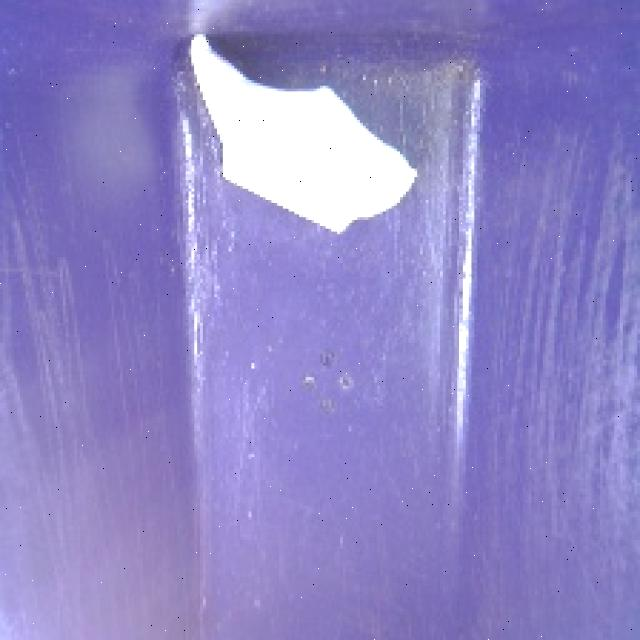china: (177, 17, 426, 247)
